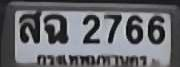2: (82, 14, 100, 44)
6: (147, 15, 166, 44), (125, 15, 143, 44)
7: (103, 14, 122, 44)
A09: (44, 13, 69, 45)
A40: (18, 11, 41, 44)
BKK: (34, 51, 149, 67)
